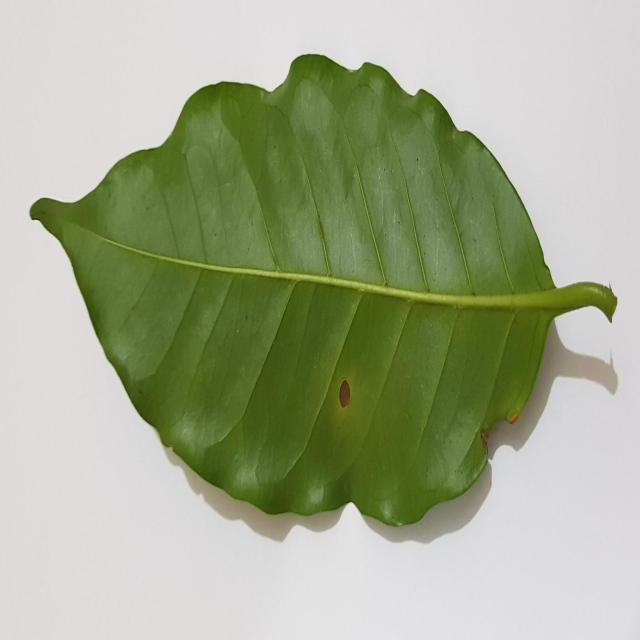Enfermedad-Mancha-de-hierro: (28, 54, 619, 532)
